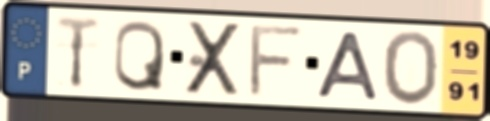A: (312, 28, 383, 103)
F: (245, 23, 309, 99)
O: (380, 28, 442, 109)
Q: (111, 17, 167, 94)
T: (54, 13, 103, 92)
X: (181, 19, 247, 98)
